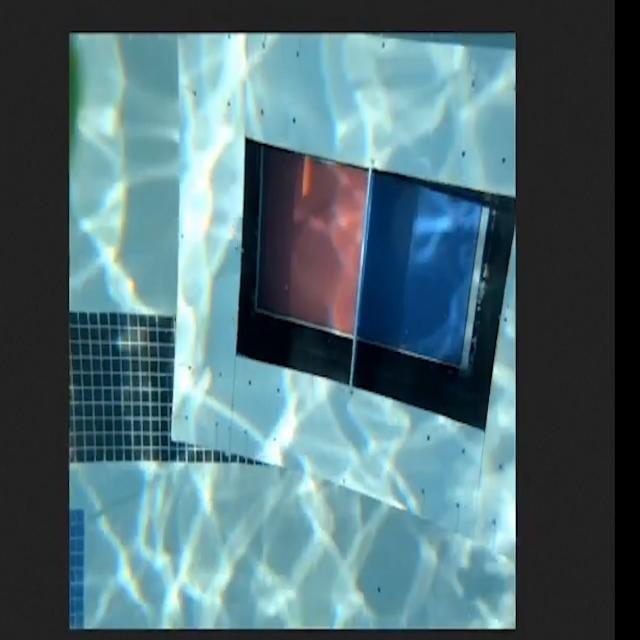Bin: (170, 31, 517, 562)
